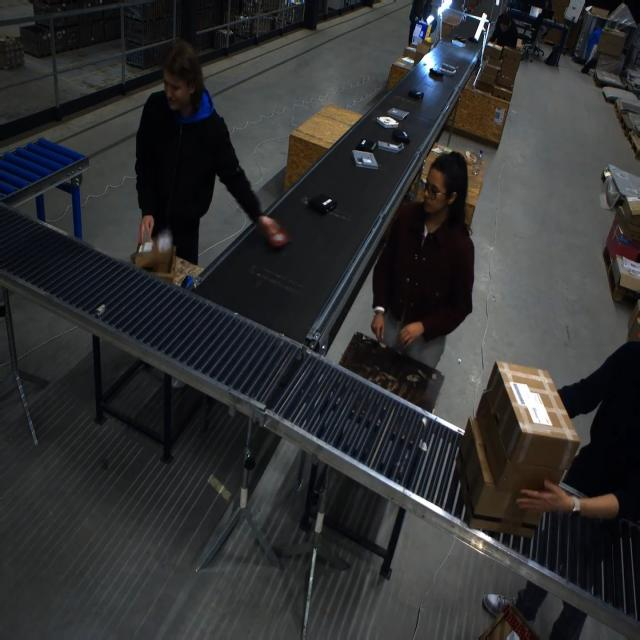box: (456, 361, 573, 530)
product: (350, 149, 381, 174), (307, 194, 336, 215), (377, 140, 405, 157), (374, 114, 399, 132), (389, 106, 411, 122), (355, 139, 376, 152), (391, 129, 410, 143), (408, 90, 424, 100), (441, 63, 457, 72), (428, 69, 443, 77)
